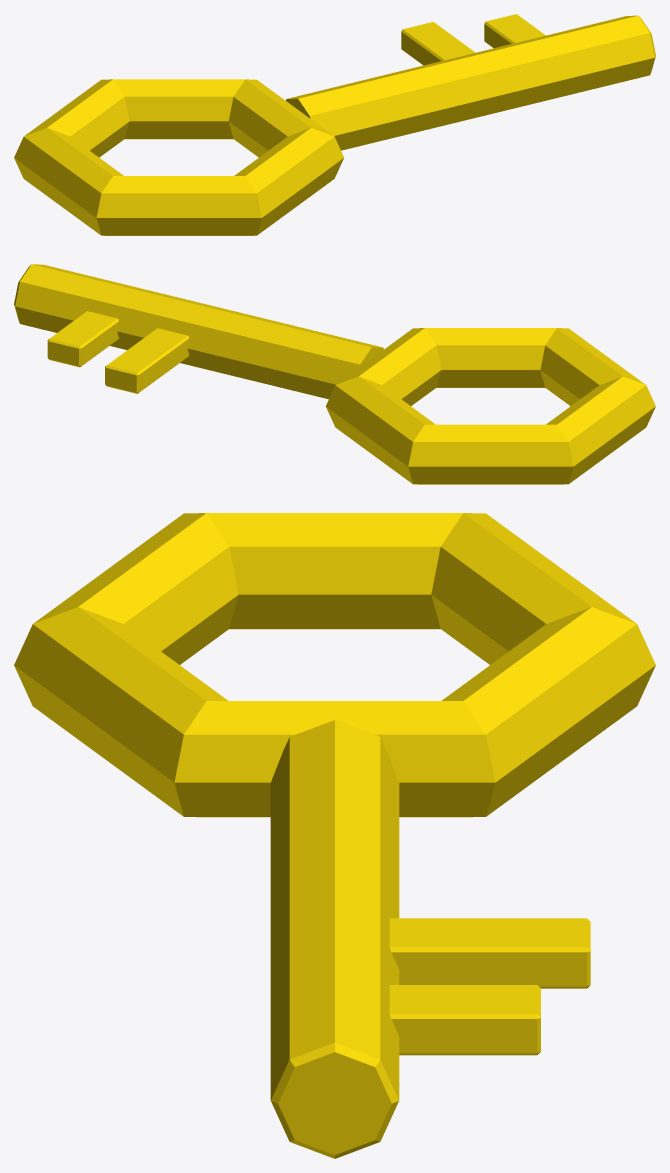
Rendered from key.fbx.
3 views of the same model, one above another, from view 1: azimuth 30°, elevation 25°; view 2: azimuth 150°, elevation 25°; view 3: azimuth 270°, elevation 25° (orthographic). The views are drawn at different scales.
Visible parts, largest first — view 1: Torus; view 2: Torus; view 3: Torus.
Boxes of the visible parts, bbox=[...] form: Torus: bbox=[14, 14, 655, 235]; Torus: bbox=[14, 264, 655, 484]; Torus: bbox=[14, 513, 655, 1158].
Size of the model in its own units: 102 by 10 by 50.
